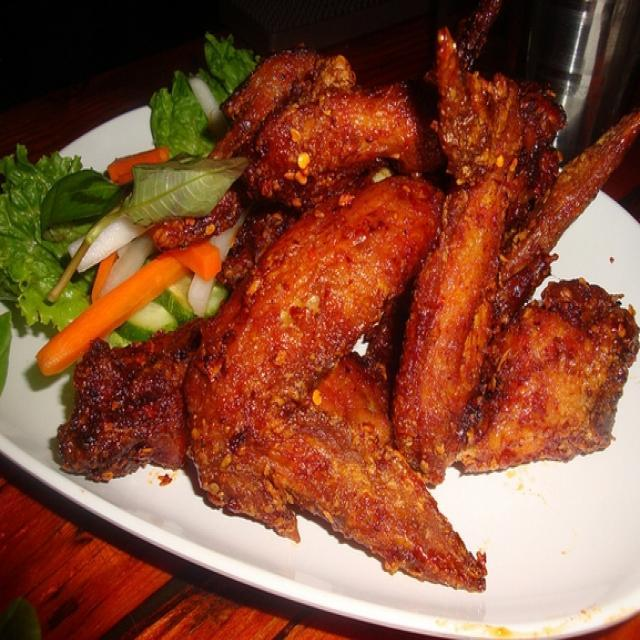Deep fried chicken wing: (209, 78, 635, 546)
